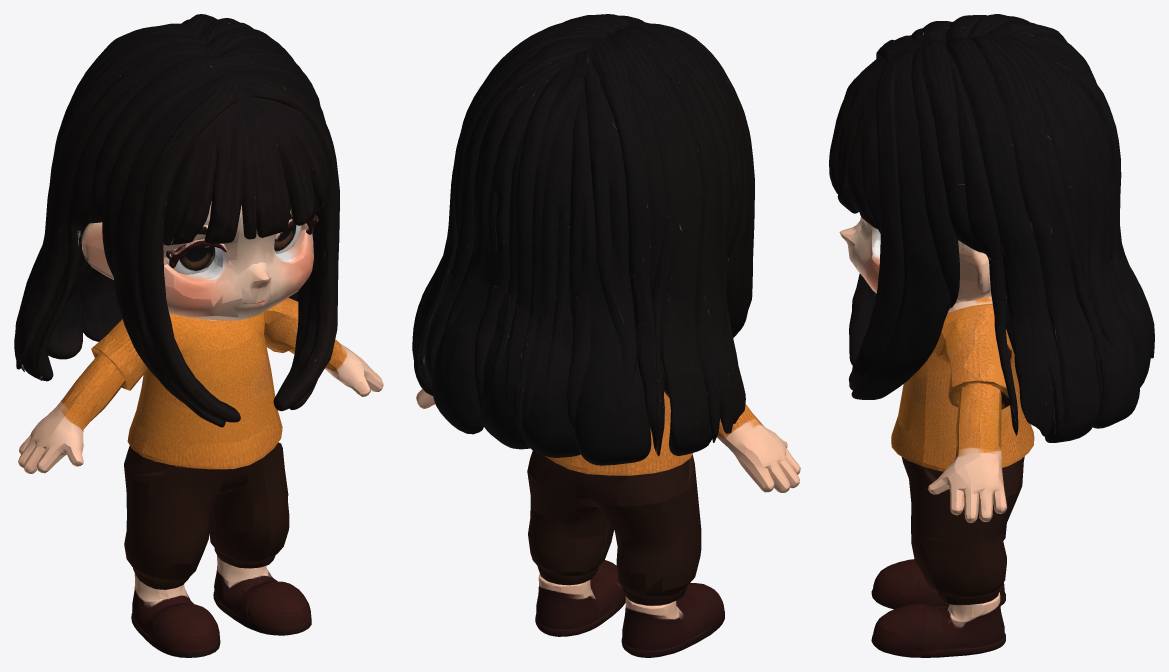
Rendered from retex_autumn_01a12009-45a4-7081-a5a8-e589aad675bd.glb.
3 renders of one model, left to right at view 1: azimuth 30°, elevation 25°; view 2: azimuth 150°, elevation 25°; view 3: azimuth 270°, elevation 25°, orthographic. The views are drawn at different scales.
Size of the model in its own units: 1.23 by 1.9 by 0.9461.
Materials: 1 (1 with a texture image).
